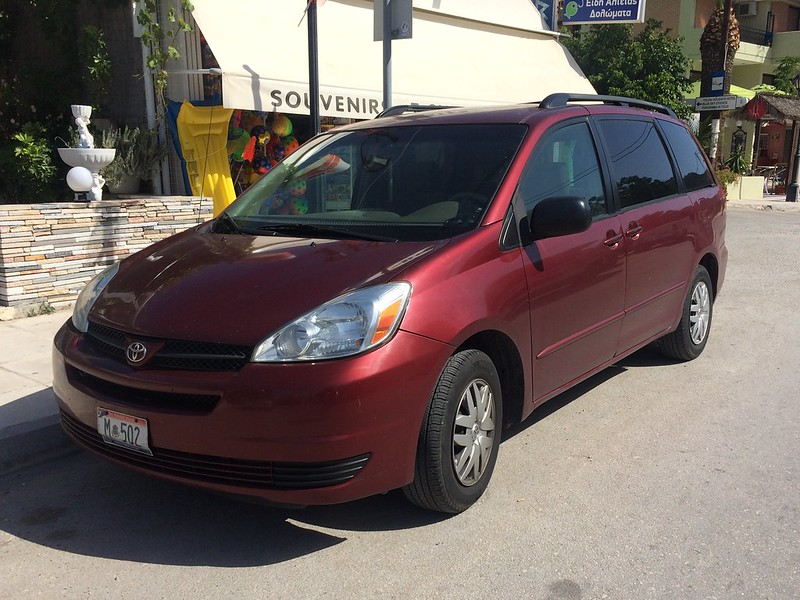car: (44, 91, 736, 516)
